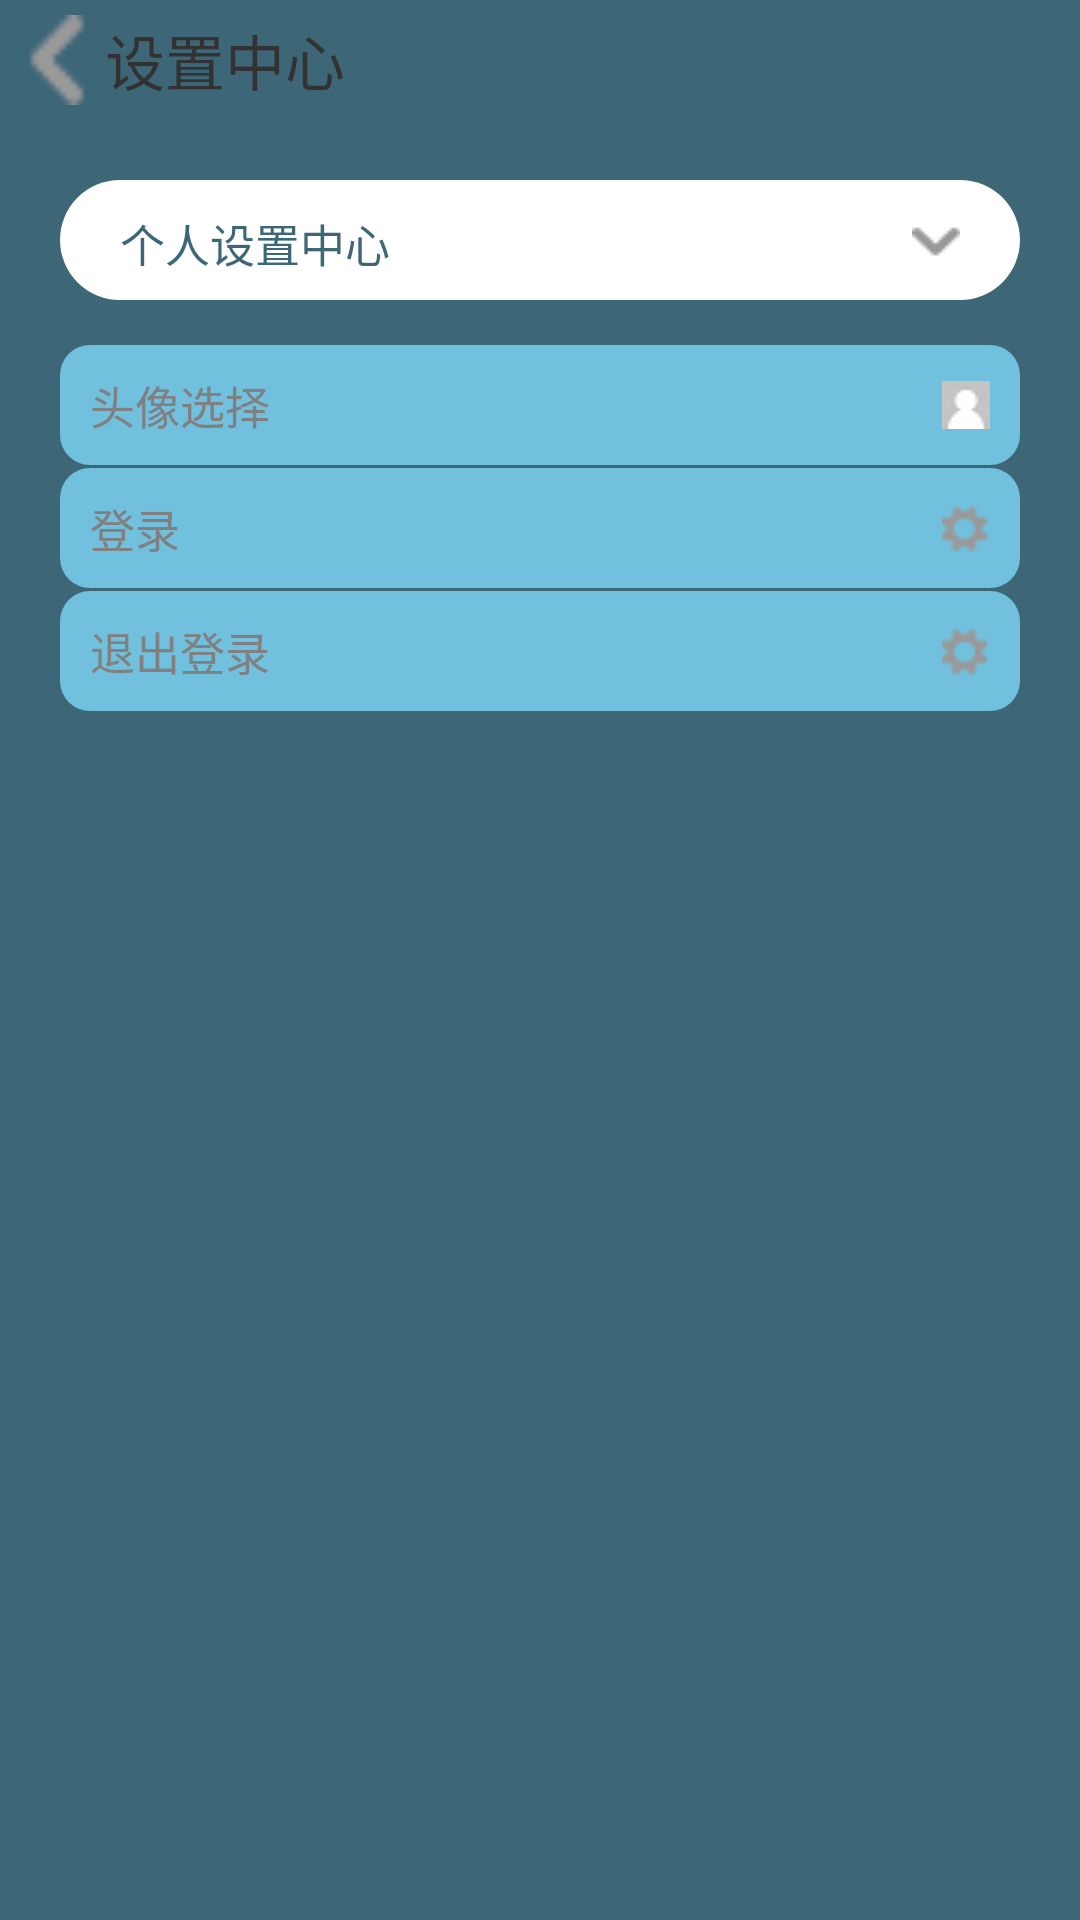

Where to tap for icons on this 1080w x 1920h app screen, as (x,y):
left: (57,60)
